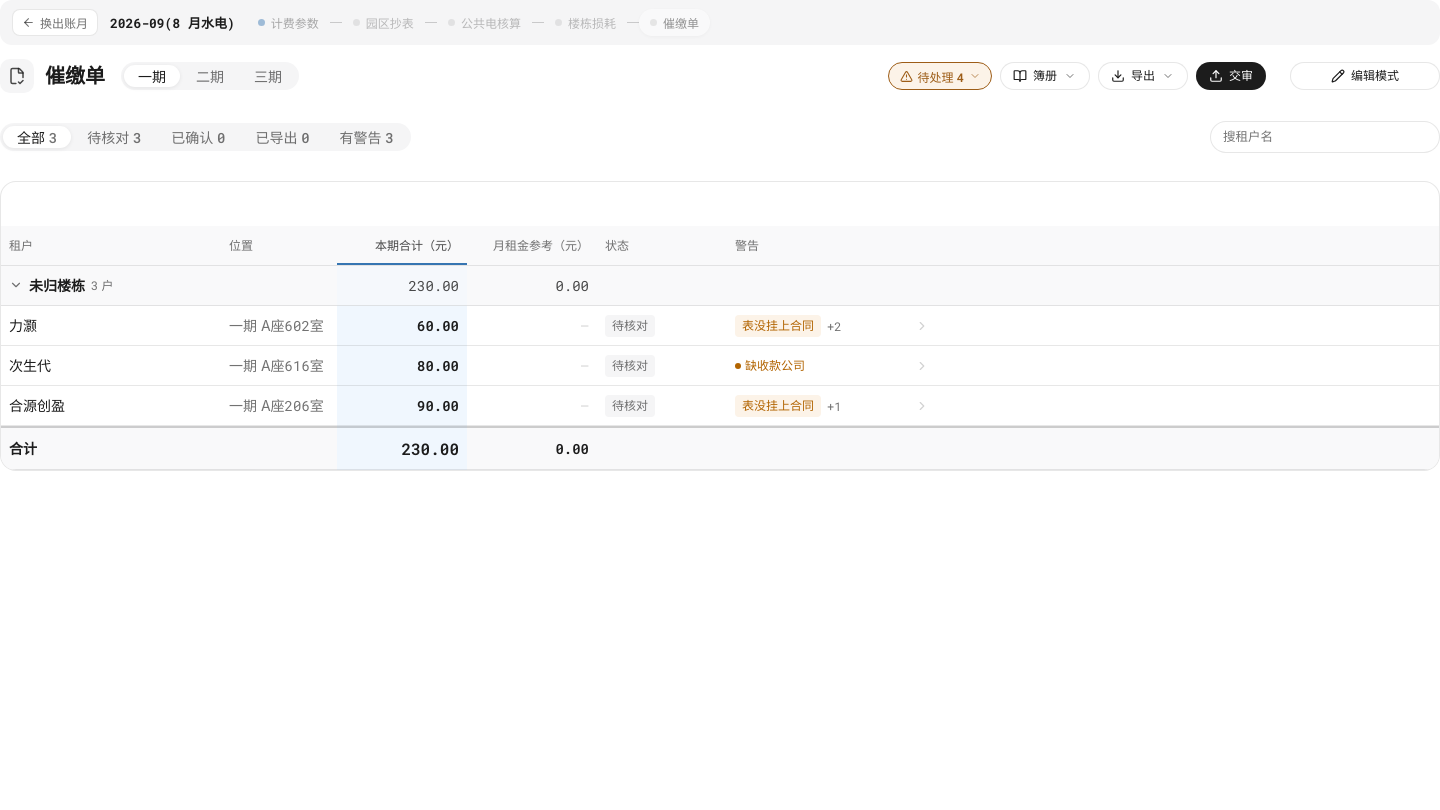
Scenario: 催缴单抽屉 · ③ 确认与逐户导航都在底部动作条上 › 待核对 + 有签发权:主动作是「核对无误,确认该户」
Click the button with class "fp-emb" at [1365, 76], box [1290,62,1439,90]
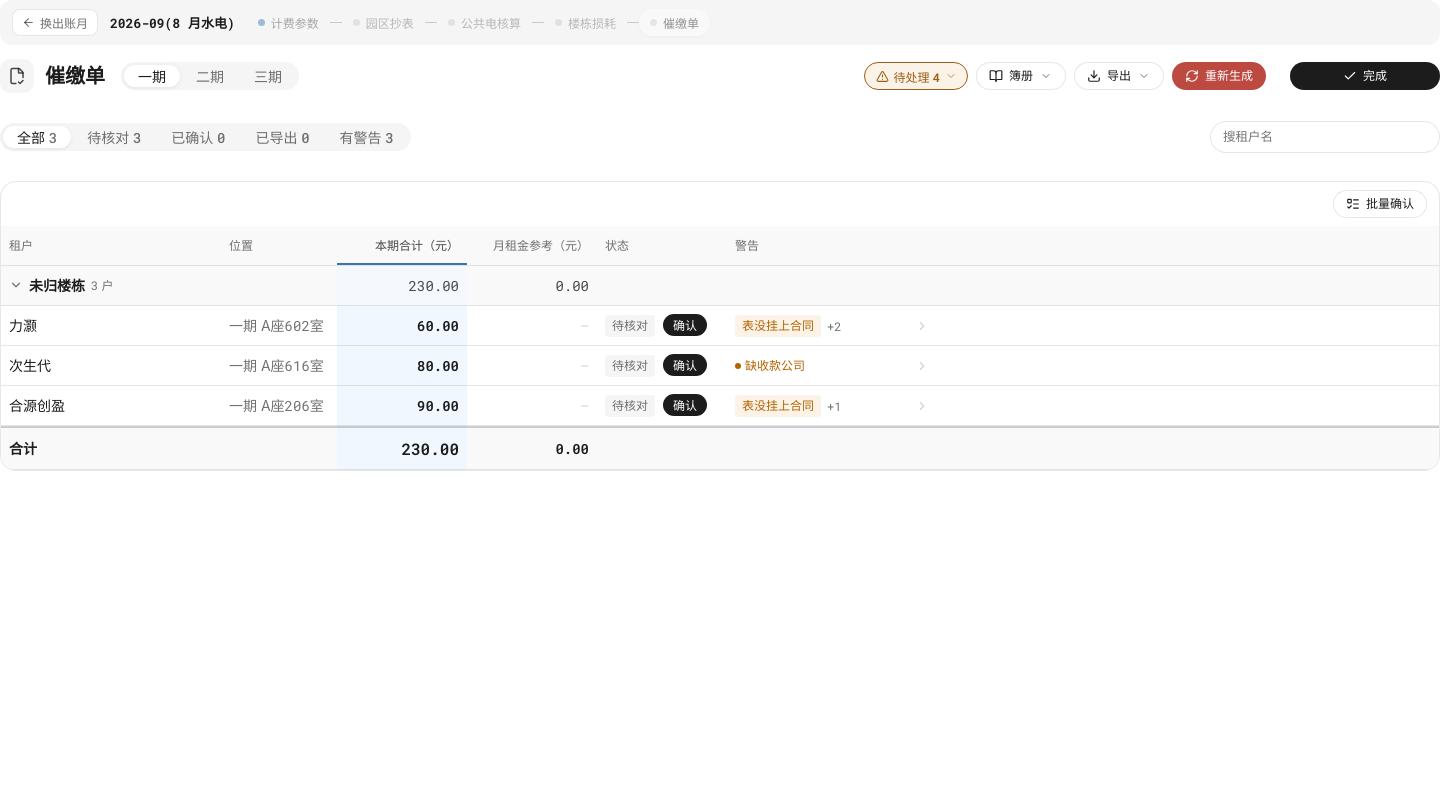
Click the row "力灏 一期 A座602室 60.00 – 待核对 确认 表没挂上合同 +2" at [720, 326], box [1,306,1439,346]
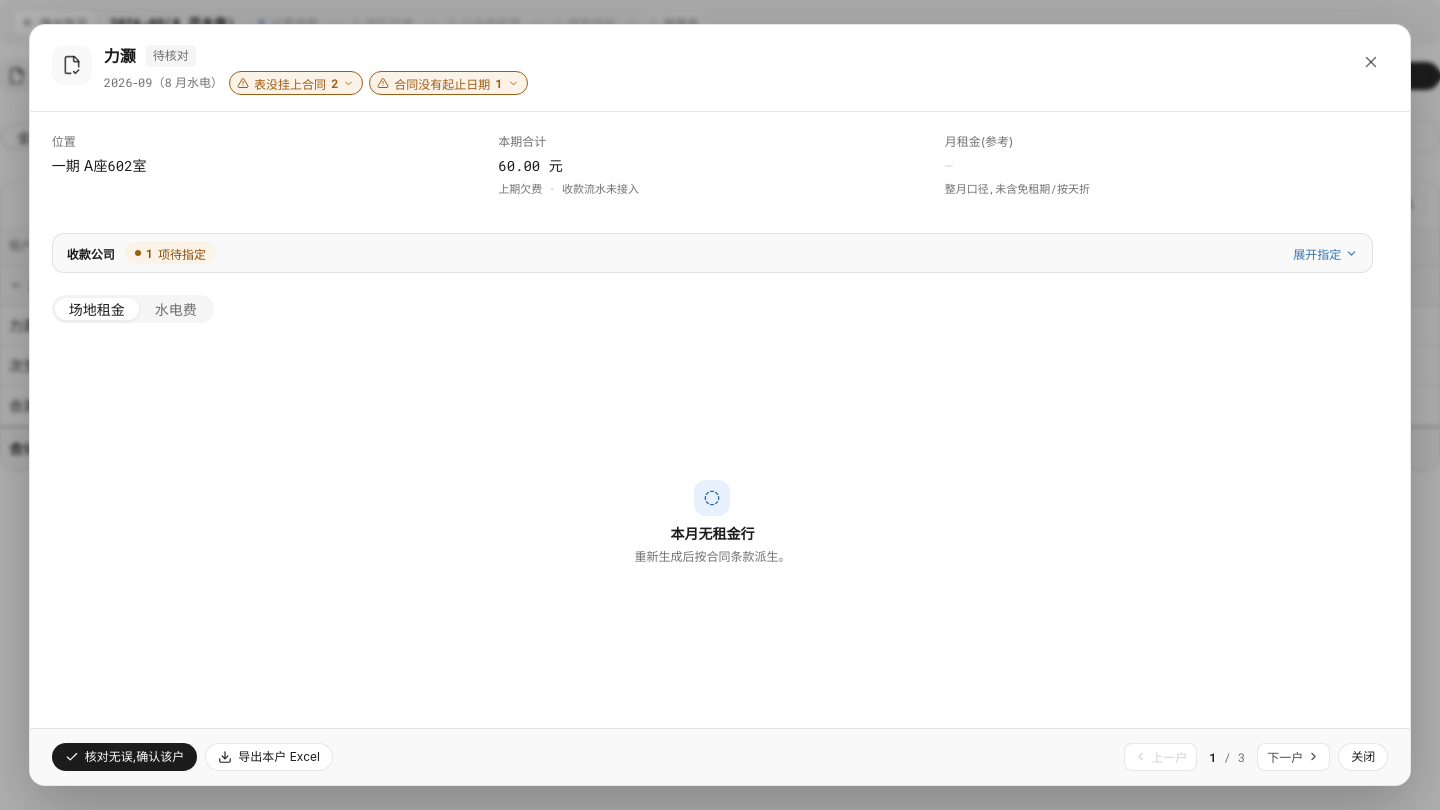
Expected: the element with class "fp-dwr-ft" shows "核对无误,确认该户", [52,743,197,771]
Expected: the element with class "fp-dwr-ft" shows "导出本户 Excel", [205,743,333,771]
